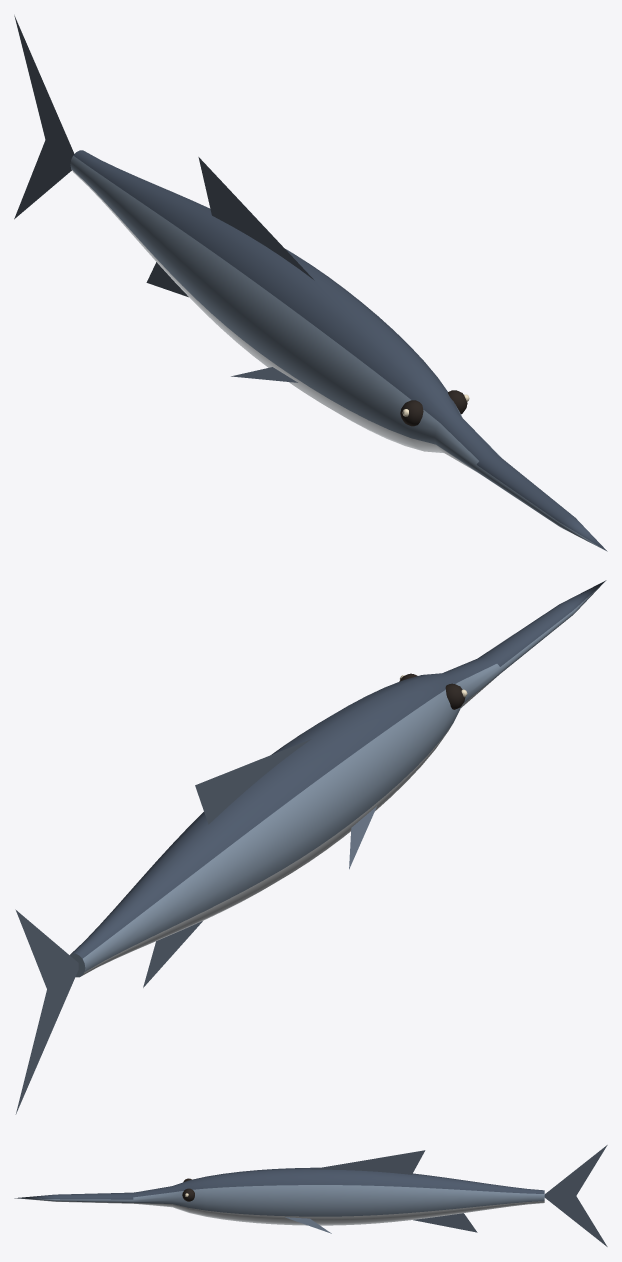
File: paddlefish.fbx
3 views of the same model, one above another, from view 1: azimuth 30°, elevation 25°; view 2: azimuth 150°, elevation 25°; view 3: azimuth 270°, elevation 25° (orthographic). The views are drawn at different scales.
Visible parts, largest first — view 1: Fish_paddlefish_EXP; view 2: Fish_paddlefish_EXP; view 3: Fish_paddlefish_EXP.
Boxes of the visible parts, left/top/right/bottom form: Fish_paddlefish_EXP: left=14, top=15, right=607, bottom=551; Fish_paddlefish_EXP: left=15, top=580, right=606, bottom=1114; Fish_paddlefish_EXP: left=14, top=1145, right=607, bottom=1246.
Bounding box in the file's own units: 0.17 × 0.2754 × 1.44.
